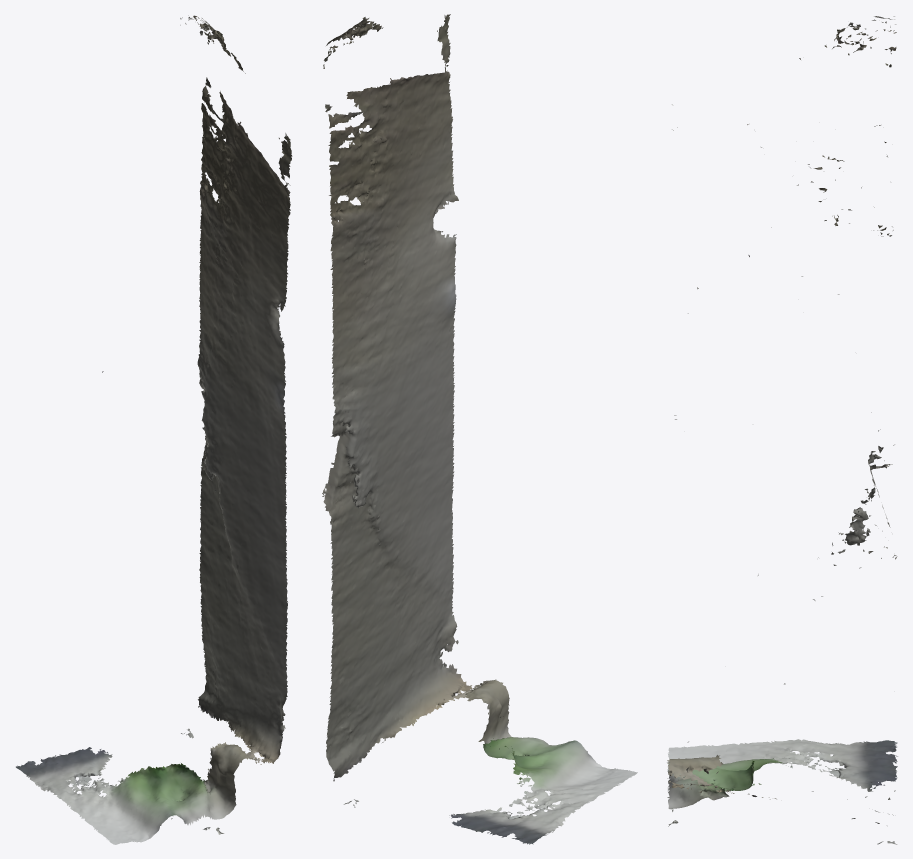
File: apartment-full-123-c810cde5ad53.glb
3 renders of one model, left to right at view 1: azimuth 30°, elevation 25°; view 2: azimuth 150°, elevation 25°; view 3: azimuth 270°, elevation 25°, orthographic. The views are drawn at different scales.
Size of the model in its own units: 0.716 by 2.54 by 0.638.
